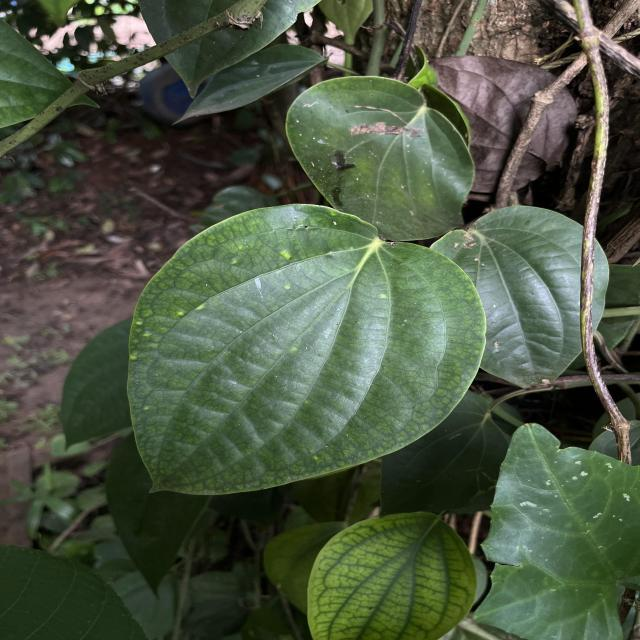Piper nigrum: (123, 200, 490, 498)
